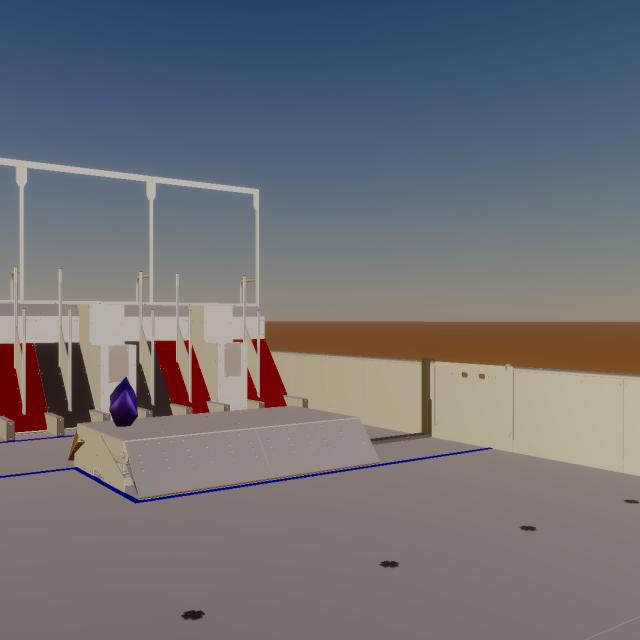frc_cube: (109, 377, 138, 427)
